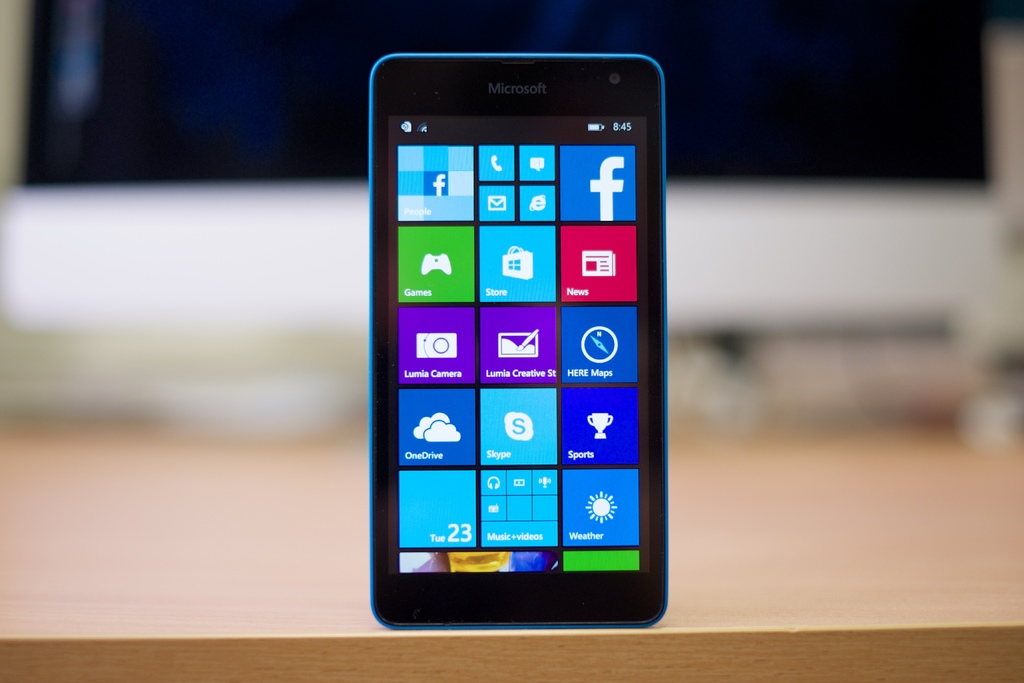mobile phone: (365, 49, 671, 628)
